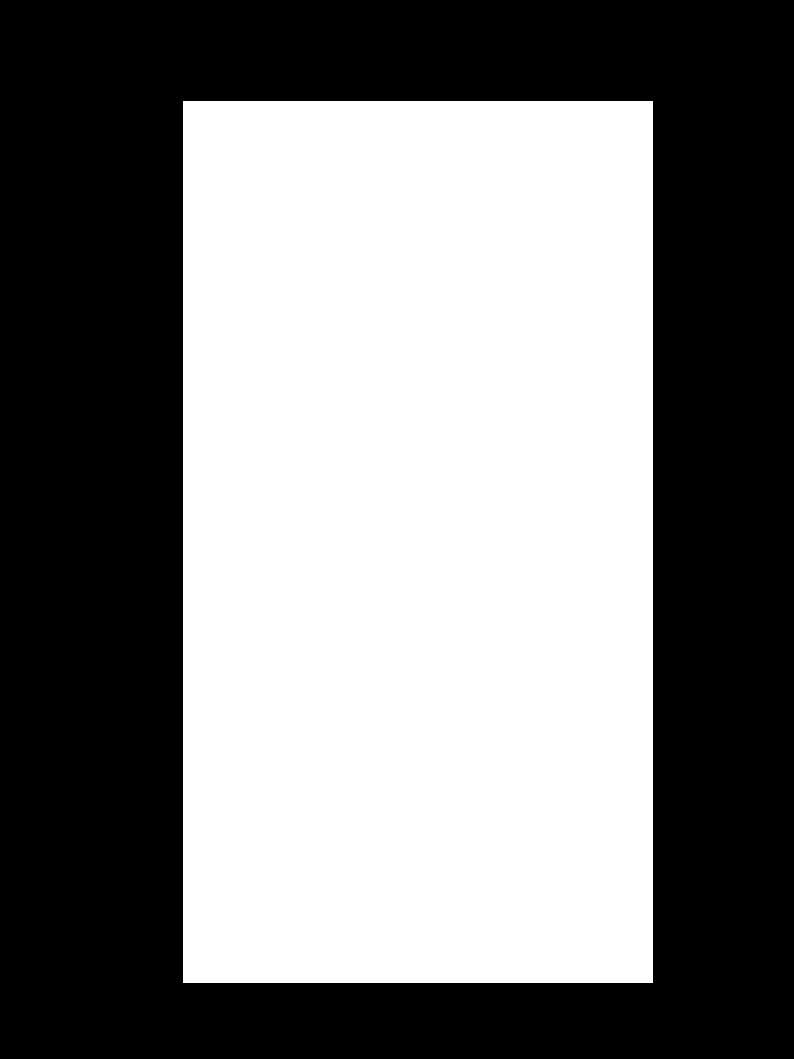table: (183, 101, 652, 982)
